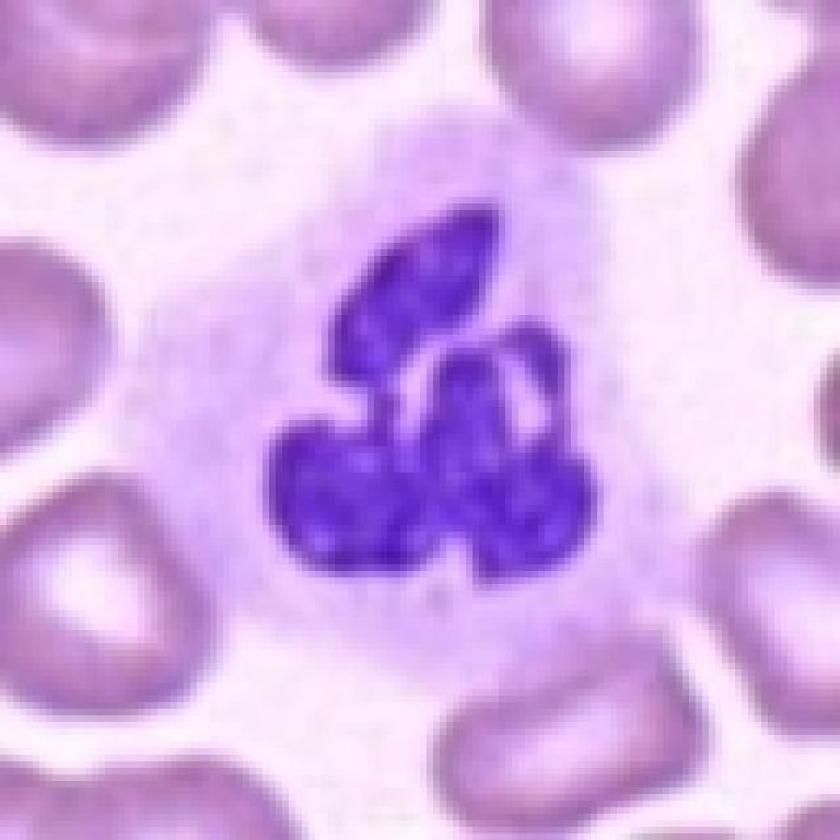neutrophil: (187, 119, 773, 677)
